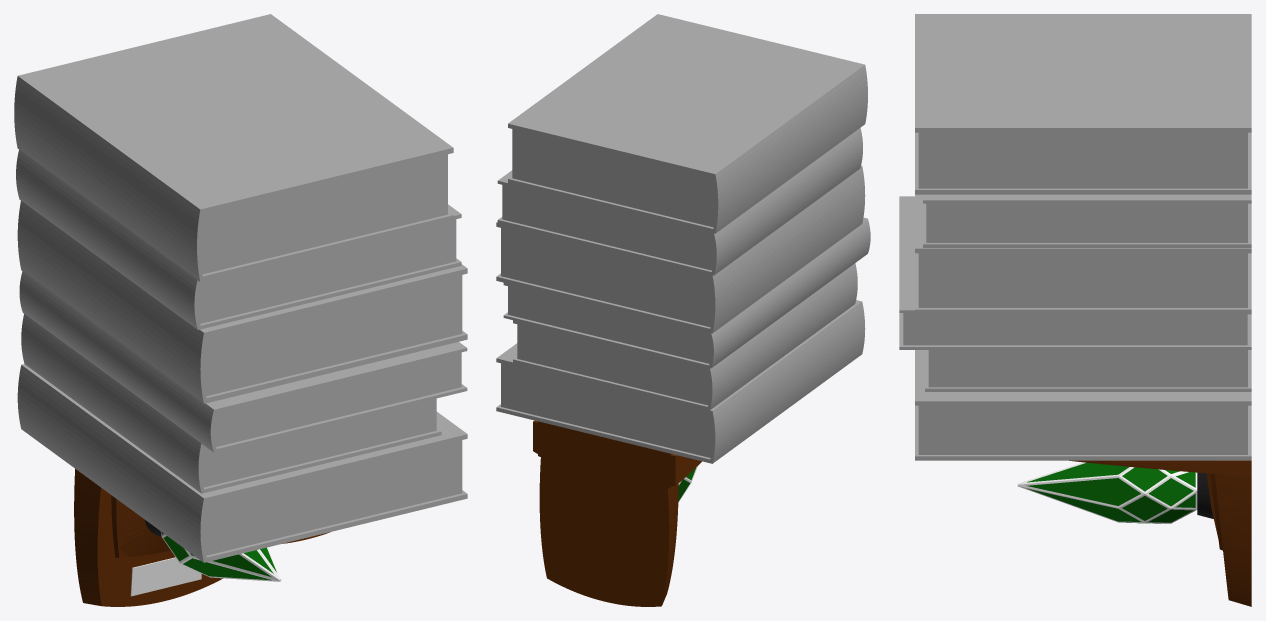
3 views of the same model, side by side, from view 1: azimuth 30°, elevation 25°; view 2: azimuth 150°, elevation 25°; view 3: azimuth 270°, elevation 25° (orthographic). The views are drawn at different scales.
Visible parts, largest first — view 1: award bookend; view 2: award bookend; view 3: award bookend.
Part boxes in pixels (left/top/right/bottom): award bookend: left=14, top=14, right=467, bottom=606; award bookend: left=496, top=14, right=870, bottom=606; award bookend: left=899, top=14, right=1251, bottom=606.
Size of the model in its own units: 9.62 by 18.83 by 11.77.
